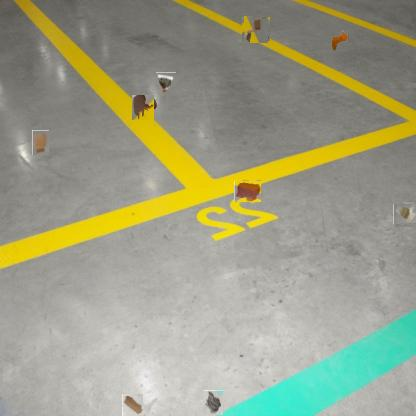dirty: (243, 16, 269, 42), (203, 390, 223, 415), (394, 203, 416, 225), (122, 394, 143, 416), (32, 130, 49, 155), (156, 72, 176, 93), (332, 30, 348, 52)
liquid: (234, 180, 261, 202), (132, 95, 156, 119)
